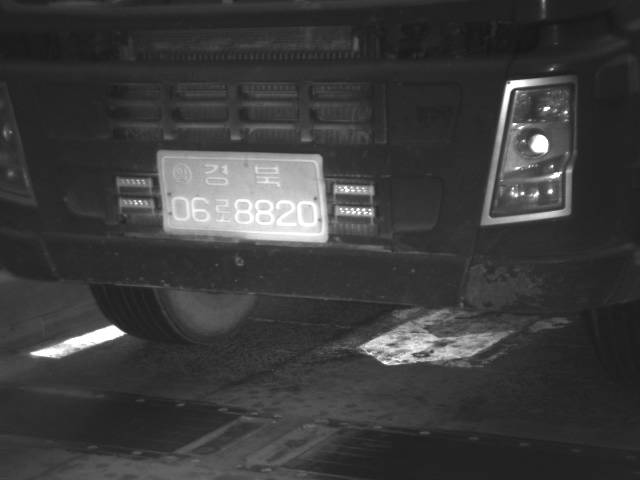car: (1, 1, 639, 381)
plate: (157, 149, 331, 243)
